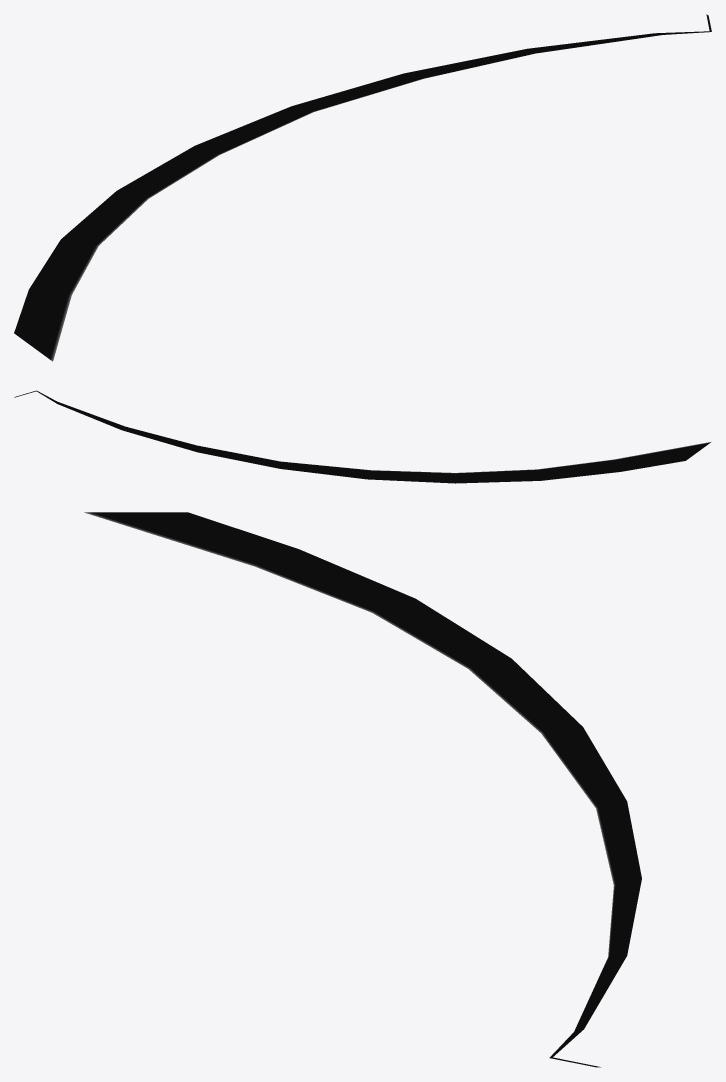
3 renders of one model, top to bottom at view 1: azimuth 30°, elevation 25°; view 2: azimuth 150°, elevation 25°; view 3: azimuth 270°, elevation 25°, orthographic. The views are drawn at different scales.
Visible parts, largest first — view 1: Joint_0_Object_0; view 2: Joint_0_Object_0; view 3: Joint_0_Object_0.
Part boxes in pixels (x1,y1,x2,y2): Joint_0_Object_0: [14, 14, 711, 361]; Joint_0_Object_0: [14, 390, 710, 483]; Joint_0_Object_0: [84, 512, 641, 1067].
Size of the model in its own units: 5602 by 0 by 2381.
